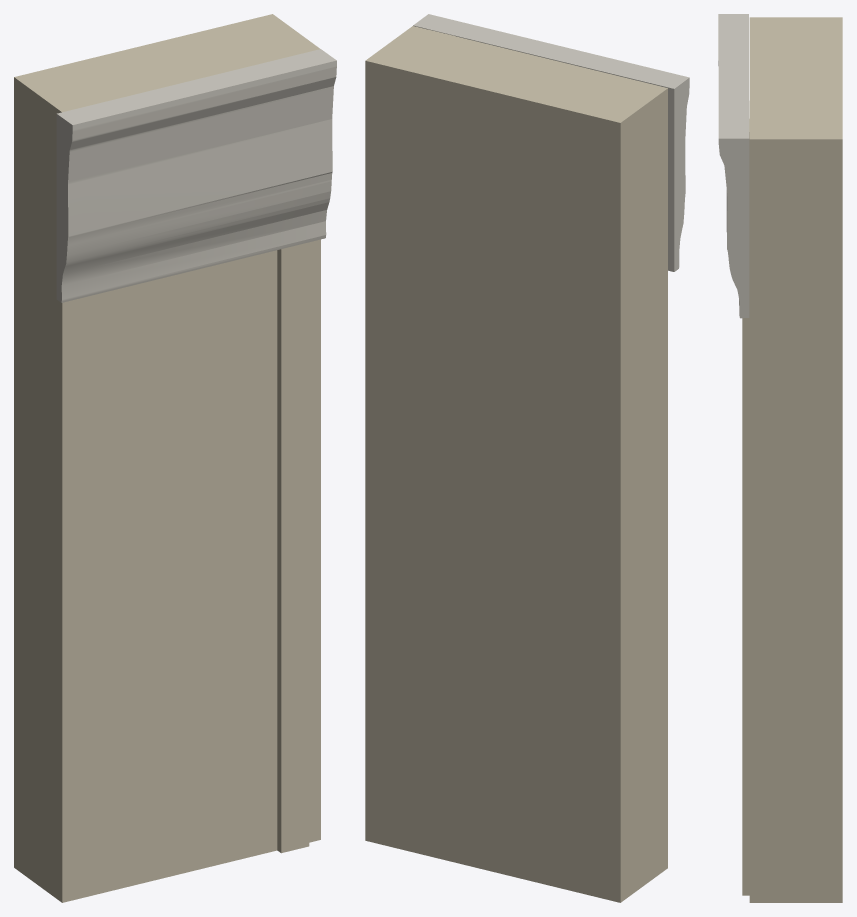
The model's file is TopHalf ModularWallTile.fbx.
3 views of the same model, side by side, from view 1: azimuth 30°, elevation 25°; view 2: azimuth 150°, elevation 25°; view 3: azimuth 270°, elevation 25° (orthographic). The views are drawn at different scales.
Visible parts, largest first — view 1: Modular_Wall3; view 2: Modular_Wall3; view 3: Modular_Wall3.
Part boxes in pixels (<box>): Modular_Wall3: <box>14,14,336,902</box>; Modular_Wall3: <box>365,14,689,902</box>; Modular_Wall3: <box>718,14,842,902</box>.
Size of the model in its own units: 380 by 1086 by 160.
